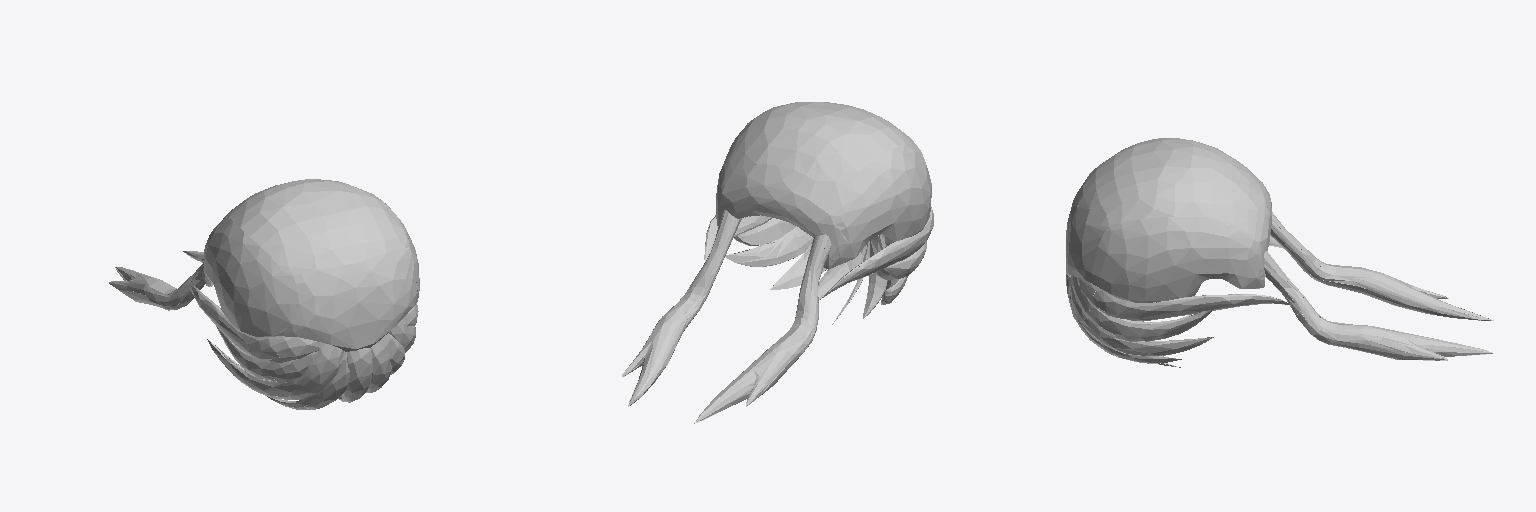
File: chito5.obj
The picture shows the model from 3 angles: view 1: azimuth 30°, elevation 25°; view 2: azimuth 150°, elevation 25°; view 3: azimuth 270°, elevation 25°; orthographic projection.
Visible parts, largest first — view 1: chito5; view 2: chito5; view 3: chito5.
Part boxes in pixels (left/top/right/bottom): chito5: left=109, top=179, right=419, bottom=409; chito5: left=622, top=102, right=933, bottom=423; chito5: left=1066, top=138, right=1493, bottom=367.
Bounding box in the file's own units: 0.8925 × 0.9918 × 1.86.